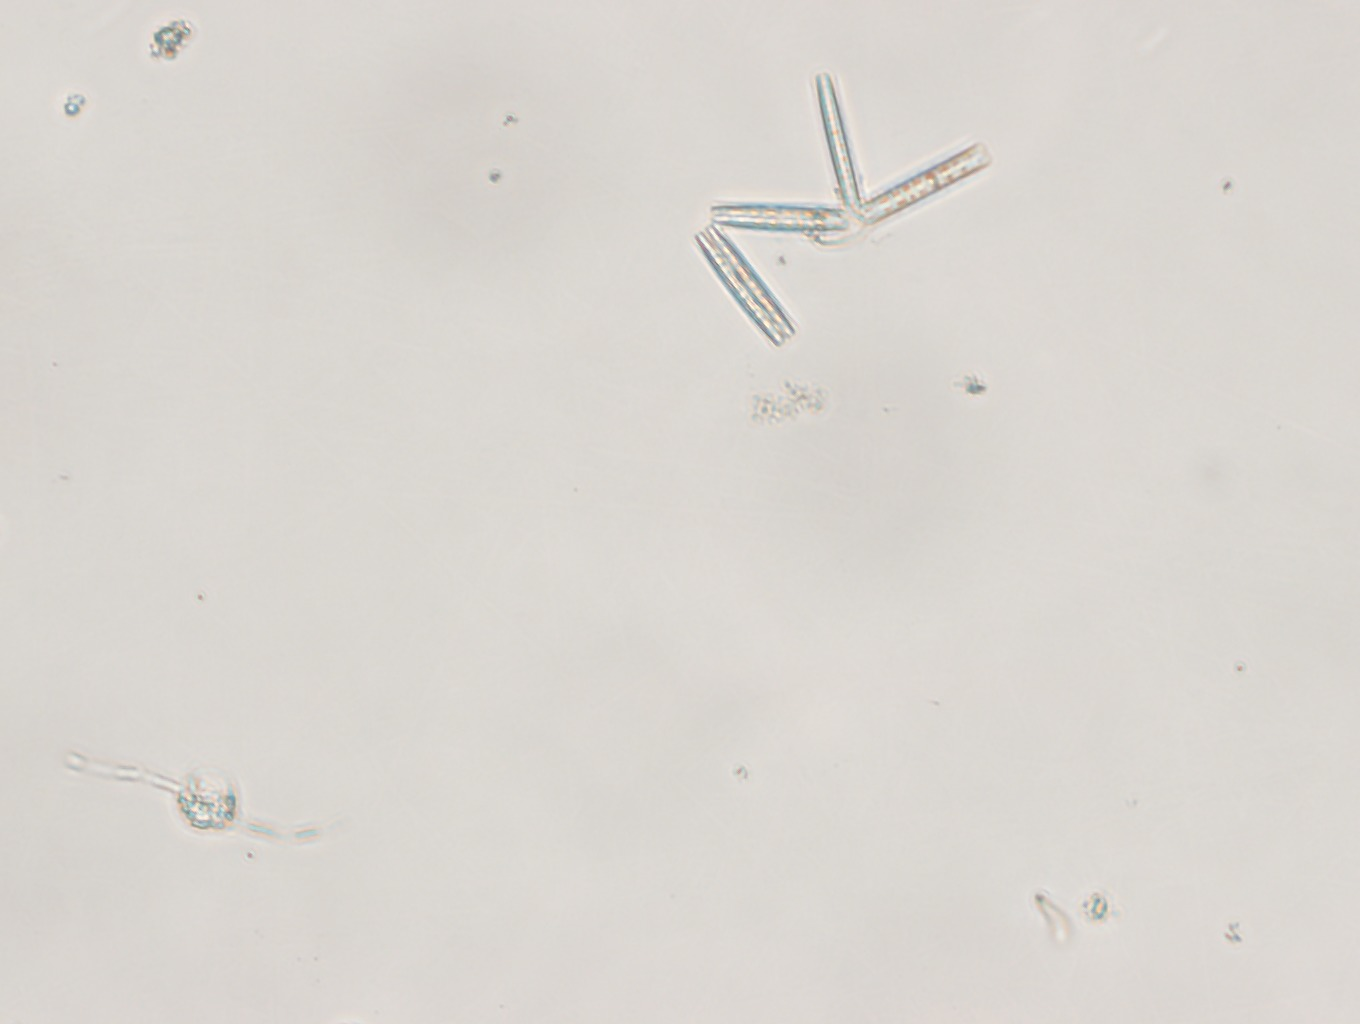thalassionema nitzschioides: (693, 73, 1004, 355)
